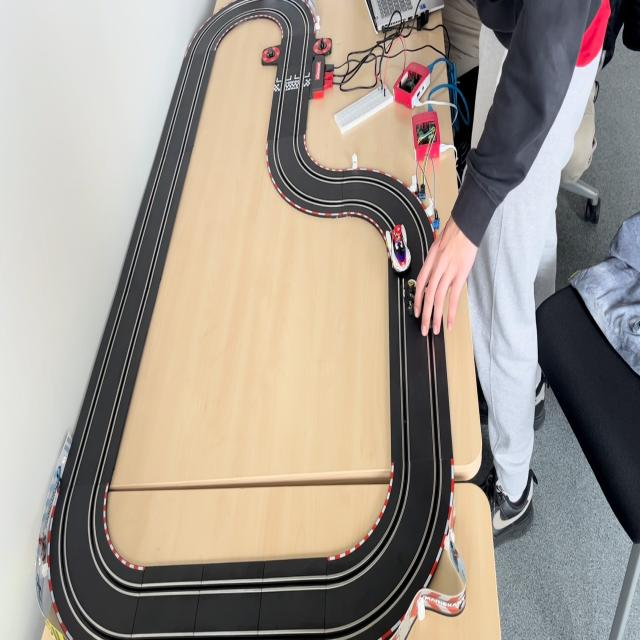mario: (385, 223, 410, 277)
